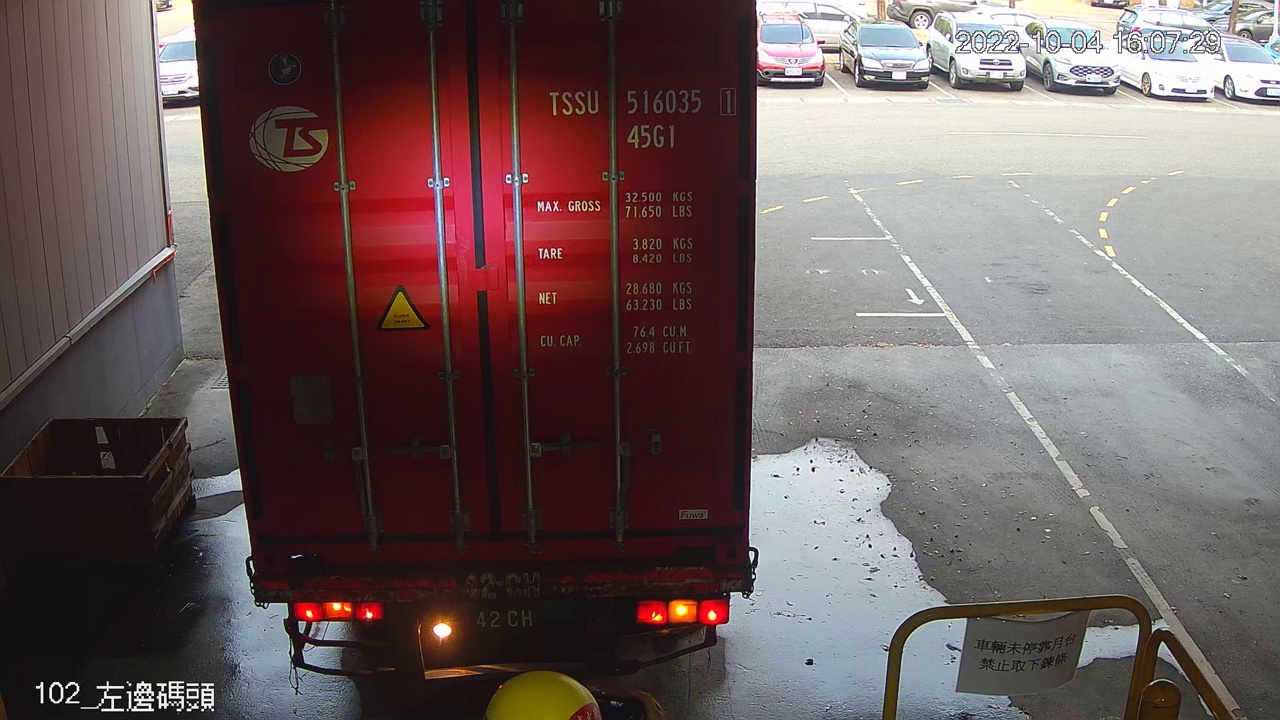container: (540, 81, 747, 157)
